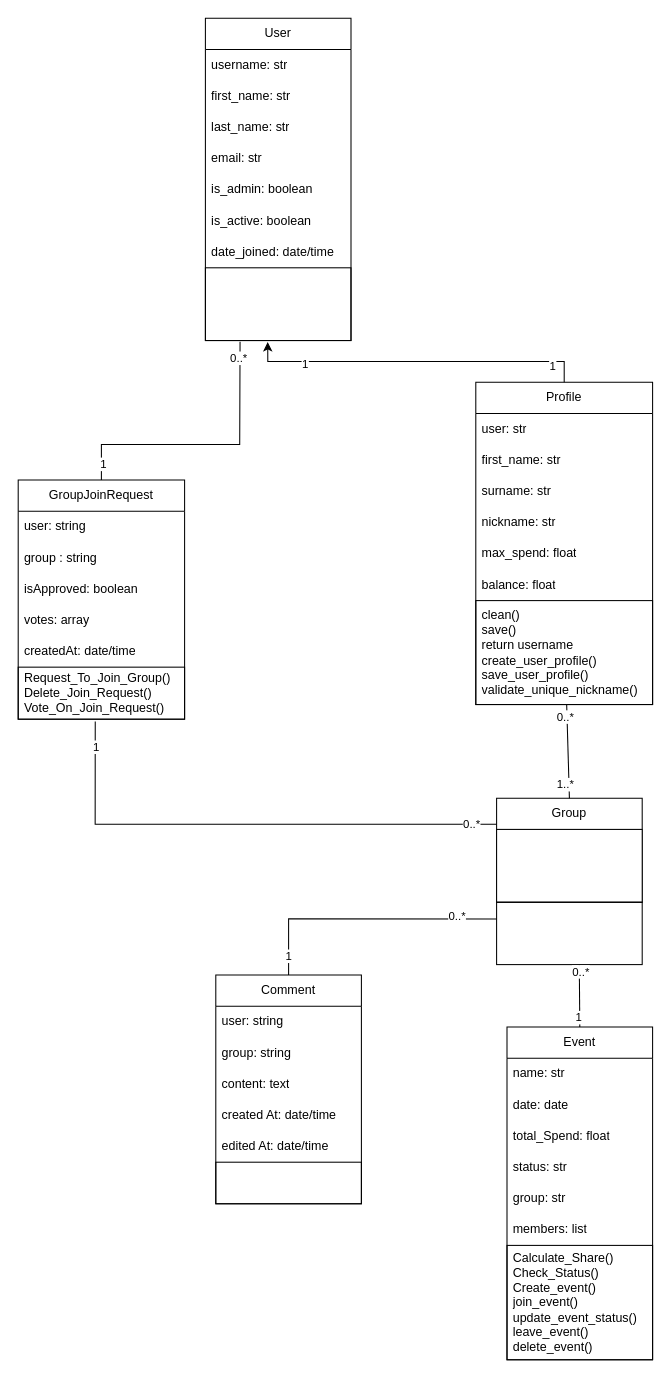
This 671x1378 diagram has some shape labels left out. Each missing label, with the centre of its shape:
clean() get_full_name() get_short_name() email_user(): point 277,304
Create_Group() Delete_Group() Invite_Users(): point 569,933
Edit_Comment() Delete_Comment(): point 288,1182
name: string admin: string members: list invited users: list: point 569,865
